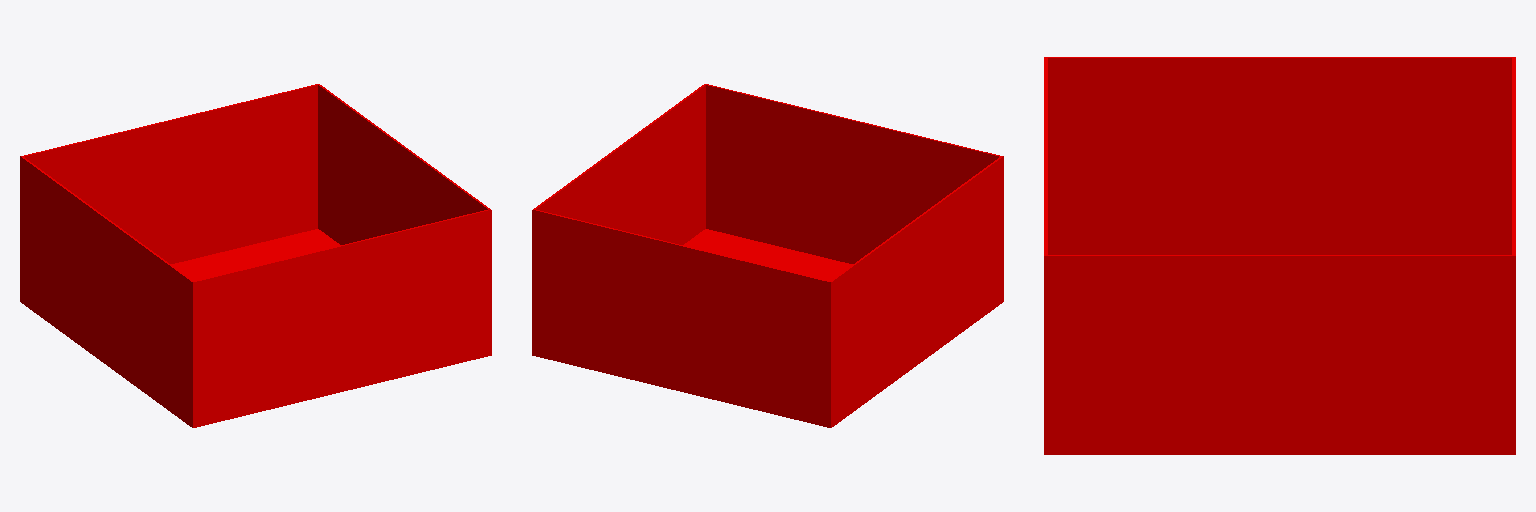
robot.urdf — sink:
<?xml version="1.0"?>
<robot name="sink">
  <link name="base_link">
     <visual>
      <origin xyz="0 0 -0.0345" rpy="0 0 0" />
      <geometry>
        <box size="0.15 0.15 0.001" />
      </geometry>
      <material name="red">
        <color rgba="1 0 0 1" />
      </material>
    </visual>
    <visual>
      <origin xyz="0 0.0745 0" rpy="0 0 0" />
      <geometry>
        <box size="0.15 0.001 0.07" />
      </geometry>
      <material name="red">
        <color rgba="1 0 0 1" />
      </material>
    </visual>
    <visual>
      <origin xyz="0 -0.0745 0" rpy="0 0 0" />
      <geometry>
        <box size="0.15 0.001 0.07" />
      </geometry>
      <material name="red">
        <color rgba="1 0 0 1" />
      </material>
    </visual>
    <visual>
      <origin xyz="0.0745 0 0" rpy="0 0 0" />
      <geometry>
        <box size="0.001 0.15 0.07" />
      </geometry>
      <material name="red">
        <color rgba="1 0 0 1" />
      </material>
    </visual>
    <visual>
      <origin xyz="-0.0745 0 0" rpy="0 0 0" />
      <geometry>
        <box size="0.001 0.15 0.07" />
      </geometry>
      <material name="red">
        <color rgba="1 0 0 1" />
      </material>
    </visual>

    <collision>
      <origin xyz="0 0 -0.0345" rpy="0 0 0" />
      <geometry>
        <box size="0.15 0.15 0.001" />
      </geometry>
    </collision>
    <collision>
      <origin xyz="0 0.0745 0" rpy="0 0 0" />
      <geometry>
        <box size="0.15 0.001 0.07" />
      </geometry>
    </collision>
    <collision>
      <origin xyz="0 -0.0745 0" rpy="0 0 0" />
      <geometry>
        <box size="0.15 0.001 0.07" />
      </geometry>
    </collision>
    <collision>
      <origin xyz="0.0745 0 0" rpy="0 0 0" />
      <geometry>
        <box size="0.001 0.15 0.07" />
      </geometry>
    </collision>
    <collision>
      <origin xyz="-0.0745 0 0" rpy="0 0 0" />
      <geometry>
        <box size="0.001 0.15 0.07" />
      </geometry>
    </collision>
  </link>
</robot>

--- What the picture shows (computed from the rendered views, not written in the file) ---
3 views of the same robot in one strip: view 1: azimuth 30°, elevation 25°; view 2: azimuth 150°, elevation 25°; view 3: azimuth 270°, elevation 25° (orthographic).
Model sink with 1 links and 0 joints (none), rooted at base_link, posed every joint at zero.
Links seen in each view (by area): view 1: base_link; view 2: base_link; view 3: base_link.
Boxes of the visible links, x1,y1,x2,y2 form: base_link: (20,84,491,427); base_link: (532,84,1003,427); base_link: (1044,57,1515,454).
Size in the robot's own frame: 0.15 by 0.15 by 0.07 metres.
Geometry: primitives only (box / cylinder / sphere), no mesh files.